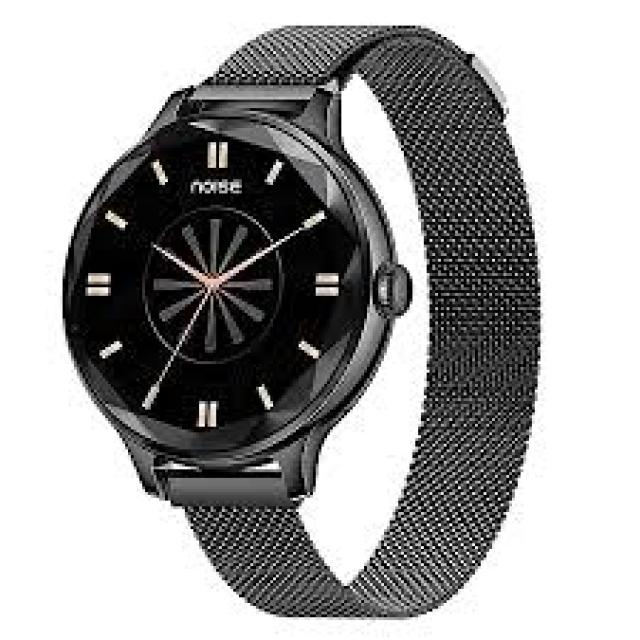objects: (63, 26, 545, 621)
